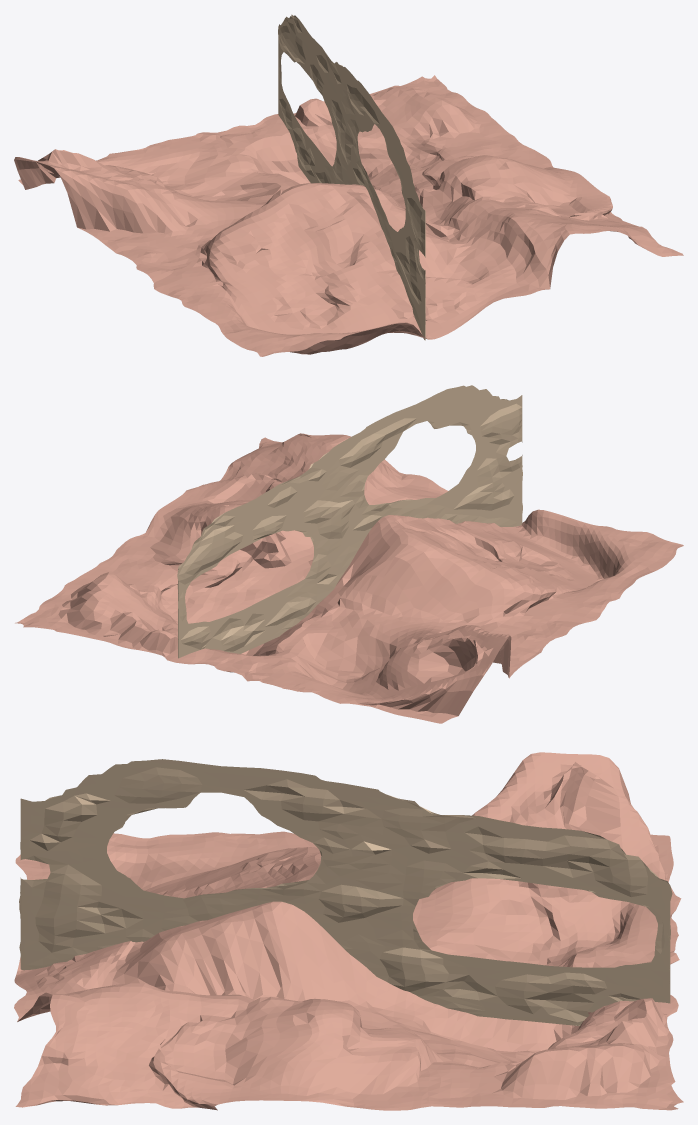
Rendered from envir3d.dae.
The picture shows the model from 3 angles, top to bottom: view 1: azimuth 30°, elevation 25°; view 2: azimuth 150°, elevation 25°; view 3: azimuth 270°, elevation 25°; orthographic projection. The views are drawn at different scales.
Parts seen in each view (by area): view 1: Plane, Cube; view 2: Plane, Cube; view 3: Plane, Cube.
Boxes of the visible parts, x1,y1,x2,y2 form: Plane: (14,75,683,356); Cube: (278,14,425,340); Plane: (15,433,683,723); Cube: (177,385,522,658); Plane: (14,752,683,1110); Cube: (19,759,672,1025).
Bounding box in the file's own units: 8.38 × 8.16 × 3.38.
